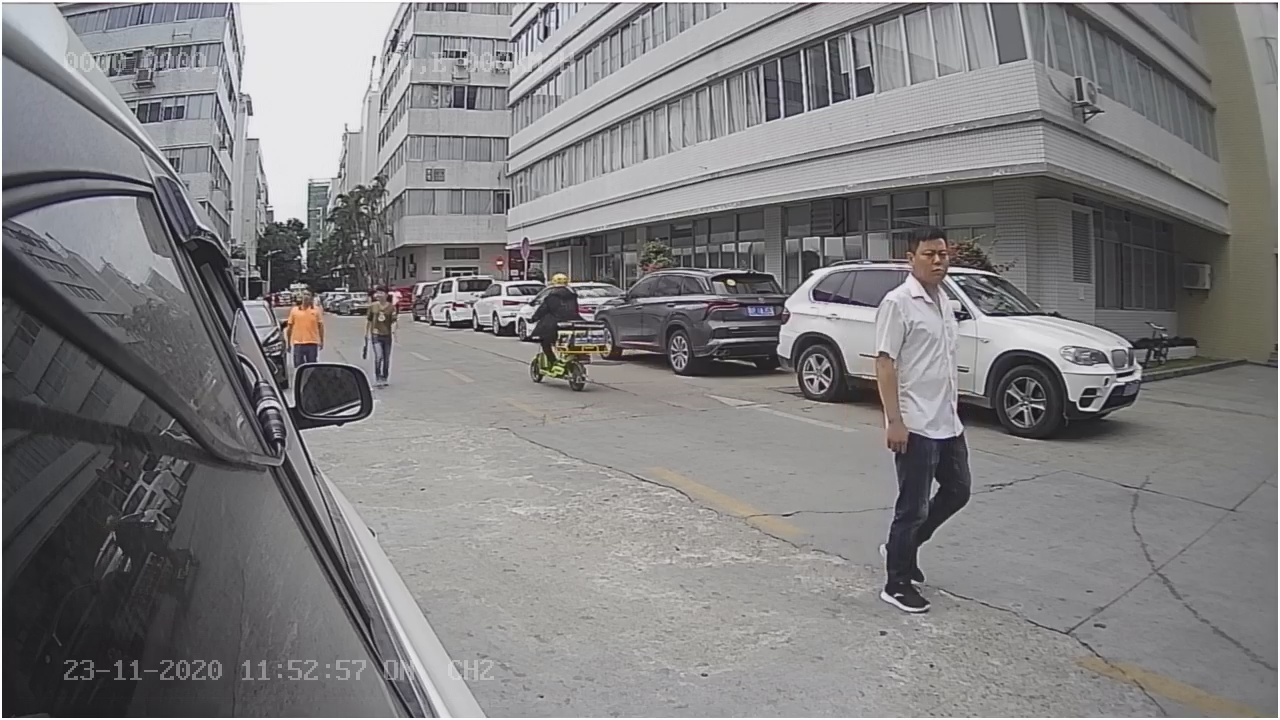person: (869, 230, 975, 612)
